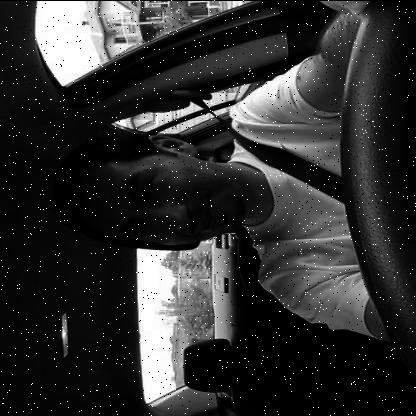seatbelt: (46, 89, 344, 257)
